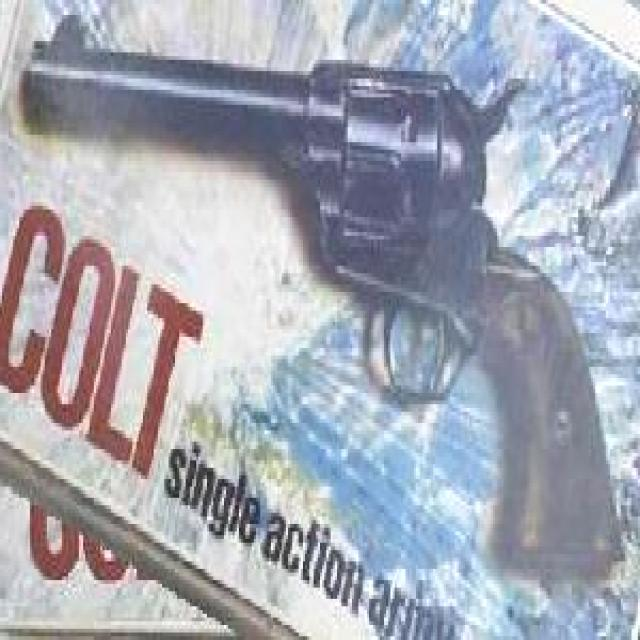pistol: (24, 8, 625, 580)
